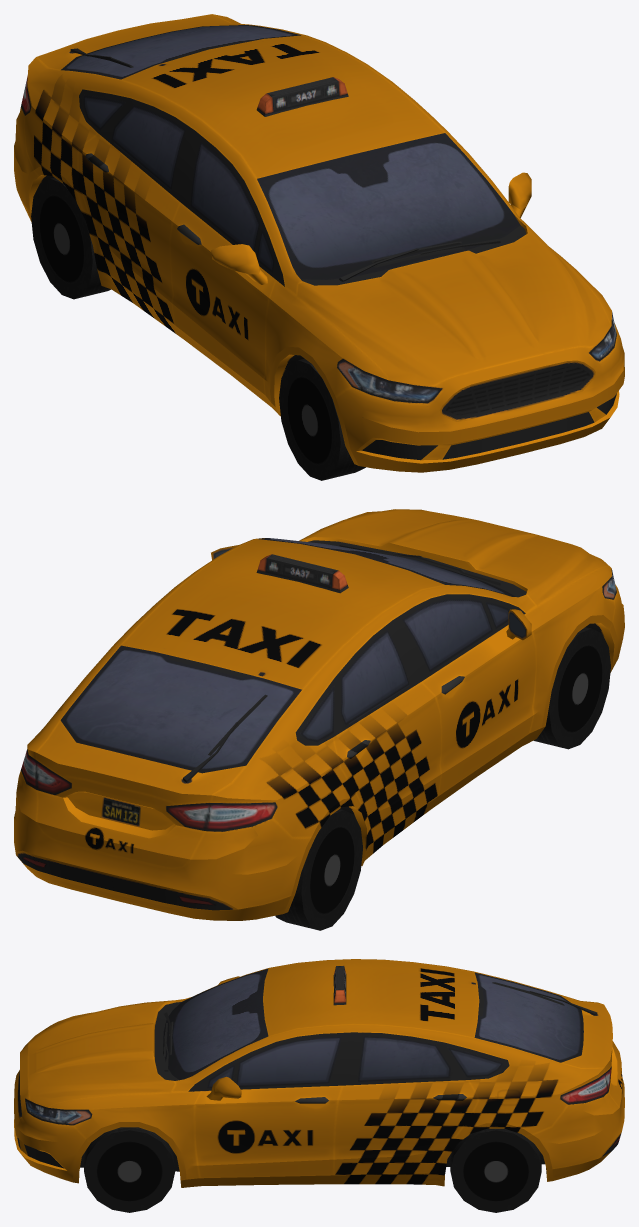
Rendered from ford_mondeo_taxi.glb.
3 renders of one model, top to bottom at view 1: azimuth 30°, elevation 25°; view 2: azimuth 150°, elevation 25°; view 3: azimuth 270°, elevation 25°, orthographic. The views are drawn at different scales.
Parts seen in each view (by area): view 1: Object_4, Object_2, Object_3; view 2: Object_4, Object_2, Object_3; view 3: Object_4, Object_2, Object_3.
Part boxes in pixels (x1,y1,x2,y2): Object_4: (14, 14, 624, 472); Object_2: (31, 177, 365, 480); Object_3: (256, 77, 348, 116); Object_4: (14, 509, 624, 920); Object_2: (275, 627, 610, 930); Object_3: (256, 554, 348, 593); Object_4: (14, 959, 624, 1187); Object_2: (84, 1127, 541, 1212); Object_3: (333, 965, 346, 1005).
Size of the model in its own units: 85.68 by 65.17 by 194.
Materials: 3 (3 with a texture image).
